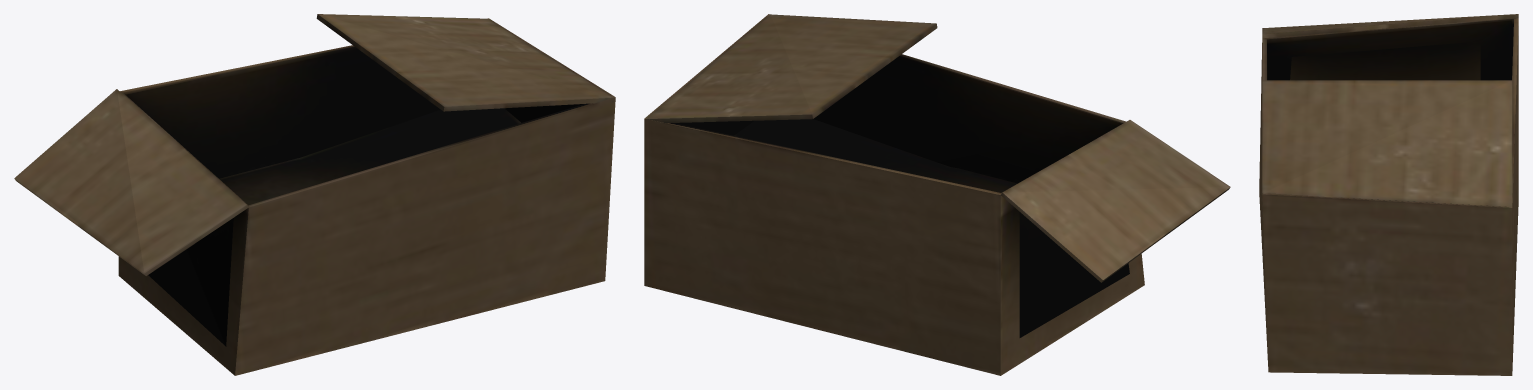
File: CardboardBox_03.FBX
3 renders of one model, left to right at view 1: azimuth 30°, elevation 25°; view 2: azimuth 150°, elevation 25°; view 3: azimuth 270°, elevation 25°, orthographic.
Visible parts, largest first — view 1: CardboardBox_03; view 2: CardboardBox_03; view 3: CardboardBox_03.
Boxes of the visible parts, left/top/right/bottom form: CardboardBox_03: left=14, top=14, right=615, bottom=375; CardboardBox_03: left=644, top=14, right=1230, bottom=375; CardboardBox_03: left=1259, top=14, right=1518, bottom=375.
Size of the model in its own units: 82.13 by 36.05 by 39.75.
